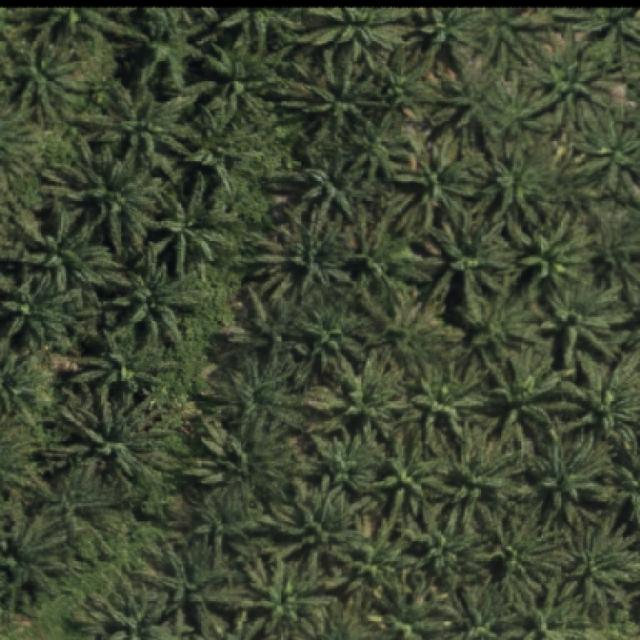Kelapa_Sawit: (42, 132, 169, 257), (31, 392, 178, 490), (256, 472, 378, 586), (239, 205, 367, 312), (181, 404, 301, 516), (353, 275, 467, 390), (13, 204, 135, 311), (86, 81, 206, 185), (133, 534, 245, 638), (474, 498, 578, 610), (518, 422, 618, 538), (414, 208, 518, 318), (202, 350, 320, 444), (435, 430, 534, 542), (22, 466, 143, 557), (477, 345, 581, 449), (232, 543, 342, 640), (536, 272, 635, 373), (526, 21, 612, 137), (148, 172, 241, 279), (390, 138, 487, 239), (298, 52, 396, 150), (111, 14, 224, 97), (309, 358, 416, 445), (0, 28, 92, 129), (398, 504, 499, 596), (287, 140, 385, 234), (338, 208, 433, 304), (424, 50, 505, 161), (109, 256, 203, 350), (198, 36, 298, 124), (225, 285, 324, 372), (468, 142, 558, 236), (180, 98, 268, 194), (392, 364, 496, 445), (70, 331, 182, 406), (332, 514, 420, 608), (552, 518, 640, 610), (371, 428, 451, 528), (450, 288, 548, 366), (365, 41, 441, 136), (517, 214, 601, 298), (479, 66, 561, 146), (308, 426, 387, 505), (188, 490, 266, 568), (295, 304, 377, 373)
